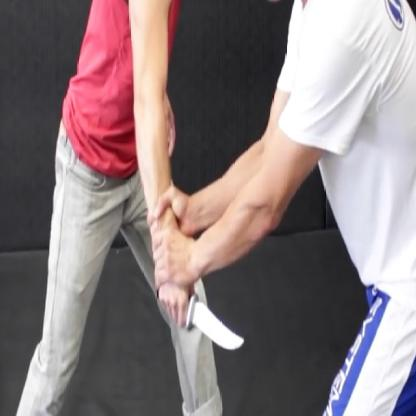knife: (155, 284, 249, 358)
